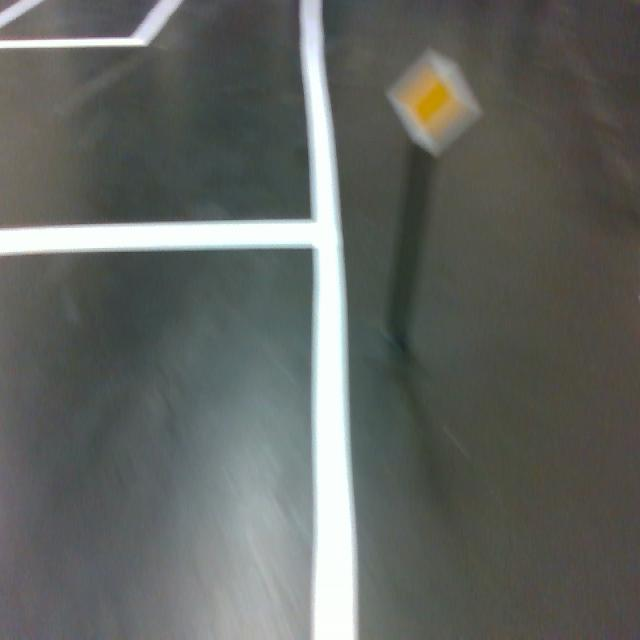priority-sign: (384, 45, 484, 158)
